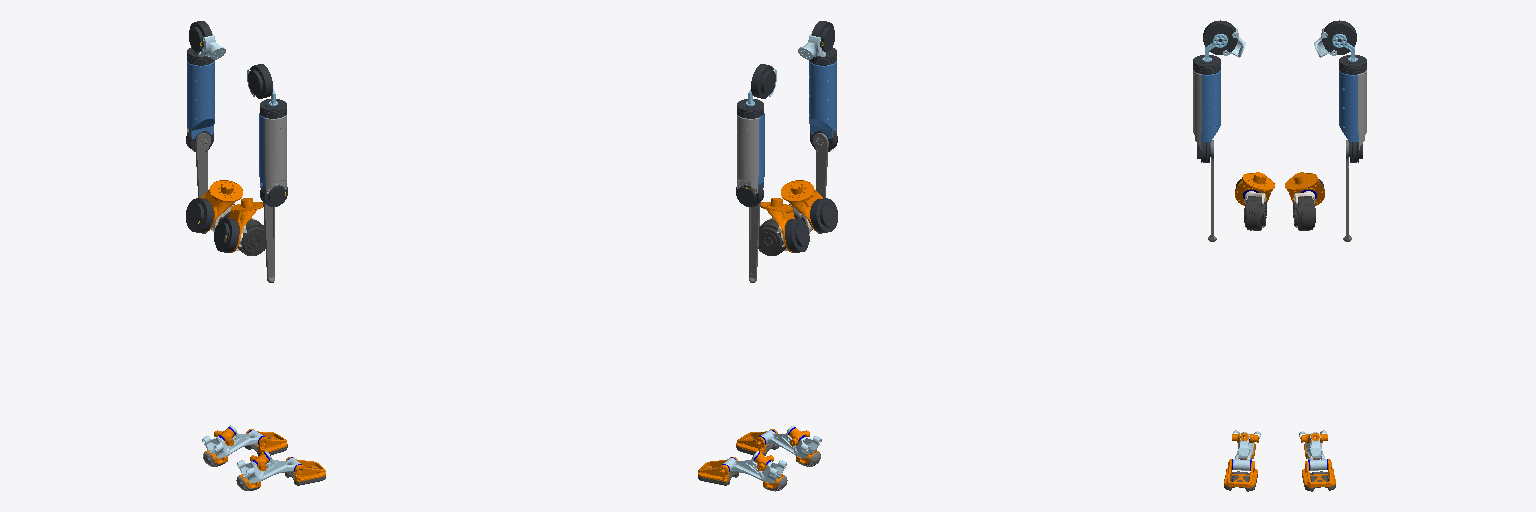
--- What the picture shows (computed from the rendered views, not written in the file) ---
Views: 3 orthographic renders of the robot side by side, from view 1: azimuth 30°, elevation 25°; view 2: azimuth 150°, elevation 25°; view 3: azimuth 270°, elevation 25°.
Robot: prestoe — 24 links, 23 joints (23 revolute); root link torso_link; default pose: all joints at 0.
Links seen in each view (by area): view 1: R_shoulderyaw_link, L_shoulderyaw_link, L_hipyaw_link, R_hipyaw_link, R_foot_link, L_foot_link, L_shoulderpitch_link, R_hiproll_link, R_elbowpitch_link, L_elbowpitch_link, R_shoulderpitch_link, R_toe_link (+1 smaller); view 2: L_shoulderyaw_link, R_shoulderyaw_link, R_hipyaw_link, L_hipyaw_link, L_foot_link, R_foot_link, R_shoulderpitch_link, L_hiproll_link, L_elbowpitch_link, R_elbowpitch_link, L_shoulderpitch_link, L_toe_link (+1 smaller); view 3: R_shoulderyaw_link, L_shoulderyaw_link, R_shoulderpitch_link, L_shoulderpitch_link, L_hiproll_link, R_hiproll_link, R_hipyaw_link, L_hipyaw_link, R_toe_link, L_toe_link, L_foot_link, R_foot_link.
Link boxes in pixels (x1,y1,x2,y2): R_shoulderyaw_link: [259, 99, 287, 206]; L_shoulderyaw_link: [186, 47, 214, 151]; L_hipyaw_link: [186, 180, 242, 232]; R_hipyaw_link: [214, 198, 262, 252]; R_foot_link: [236, 451, 301, 490]; L_foot_link: [202, 425, 264, 466]; L_shoulderpitch_link: [189, 21, 225, 59]; R_hiproll_link: [236, 218, 265, 255]; R_elbowpitch_link: [263, 202, 274, 282]; L_elbowpitch_link: [195, 133, 210, 233]; R_shoulderpitch_link: [247, 64, 272, 98]; R_toe_link: [285, 457, 325, 485]; L_shoulderyaw_link: [736, 99, 764, 206]; R_shoulderyaw_link: [809, 47, 837, 151]; R_hipyaw_link: [781, 180, 837, 232]; L_hipyaw_link: [761, 198, 809, 252]; L_foot_link: [722, 451, 787, 491]; R_foot_link: [759, 425, 821, 466]; R_shoulderpitch_link: [798, 21, 834, 59]; L_hiproll_link: [758, 218, 787, 255]; L_elbowpitch_link: [749, 202, 760, 282]; R_elbowpitch_link: [813, 133, 828, 233]; L_shoulderpitch_link: [751, 64, 776, 98]; L_toe_link: [698, 457, 738, 485]; R_shoulderyaw_link: [1193, 55, 1220, 162]; L_shoulderyaw_link: [1339, 55, 1366, 162]; R_shoulderpitch_link: [1203, 20, 1245, 57]; L_shoulderpitch_link: [1314, 20, 1356, 57]; L_hiproll_link: [1293, 191, 1315, 230]; R_hiproll_link: [1244, 191, 1266, 230]; R_hipyaw_link: [1235, 172, 1274, 205]; L_hipyaw_link: [1285, 172, 1324, 205]; R_toe_link: [1224, 459, 1257, 491]; L_toe_link: [1302, 459, 1335, 491]; L_foot_link: [1299, 430, 1327, 470]; R_foot_link: [1232, 430, 1260, 470].
Bounding box of the posed robot: 0.3278 × 0.4948 × 1.37 m (x, y, z).
Meshes: 19 distinct files referenced, 18 mesh visuals loaded (14 Collada DAE); not drawn: 6 (reference not matched to a file when rendering).

The robot description file, URDF, robot "prestoe":
<?xml version="1.0" ?>
<robot name="prestoe">

    <!-- <link name="world"/>
    <joint name="fixed" type="fixed">
        <parent link="world"/>
        <child link="torso_link"/>
    </joint>
 -->

<!--!!!!!!!!!!!! Torso !!!!!!!!!!!!!!!!!!!!!!!!!!!!!!!!!!!!-->
   
    <link name="torso_link">
        <inertial>
            <mass value="7.3955327"/>
            <inertia ixx="314898.04974e-6" ixy="-23.52183e-6" ixz="-983.13041e-6" iyy="292494.07567e-6" iyz="824.26242e-6" izz="47419.11099e-6"/>
            <origin rpy="0 0 0" xyz="0.02827e-3 -0.53546e-3 170.93286e-3"/>
        </inertial>
        <visual>
            <origin rpy="0 0 0" xyz="0.0 0.0 0.0"/>
            <geometry>
                <mesh filename="meshes/torso_link.dae"/>
            </geometry>
        </visual>
        <collision>
            <origin rpy="0 0 0" xyz="0.0 0.0 0.0"/>
            <geometry>
                <mesh filename="meshes/torso_link.dae"/>
            </geometry>
        </collision>
    </link>

 <joint name="torsoyaw" type="revolute">
        <parent link="torso_link"/>
        <child link="pelvis"/>
        <axis xyz="0 0 1"/>
        <origin rpy="0 0 0" xyz="0.0 0.0 -44.5e-3"/>
        <limit effort="1000" lower="-1.57079632679" upper="1.57079632679" velocity="20"/>
    </joint>

    <link name="pelvis">
        <inertial>
            <mass value="4.05352722"/>
            <inertia ixx="16129.06382e-6" ixy="0.02459e-6" ixz="-11.24282e-6" iyy="8349.24216e-6" iyz="0.16863e-6" izz="13083.52644e-6"/>
            <origin xyz="0.1893e-3 -0.00259e-3 -24.14927e-3"/>
        </inertial>
        <visual>
            <origin rpy="0 0 0" xyz="0.0 0.0 0.0"/>
            <geometry>
                <mesh filename="meshes/pelvis_link.dae"/>
            </geometry>
        </visual>
        <collision>
            <origin rpy="0 0 0" xyz="0.0 0.0 0.0"/>
            <geometry>
                <mesh filename="meshes/pelvis_link.dae"/>
            </geometry>
        </collision>
    </link>

    <!--!!!!!!!!!!!! Right Leg !!!!!!!!!!!!!!!!!!!!!!!!!!!!!!!!!!!!-->
    <joint name="R_hipyaw" type="revolute">
        <parent link="pelvis"/>
        <child link="R_hipyaw_link"/>
        <axis xyz="0 0 1"/>
        <origin rpy="-0.2618  0  0" xyz="0 -54.71371e-3 -48.37244e-3"/>
        <!--includes -15 degree tilt, and convert mm to m-->
        <limit lower="-1.57" upper="1.57" effort="0.0" velocity="20.0"/>
    </joint>
    <link name="R_hipyaw_link">
        <inertial>
            <mass value="0.81333271"/>
            <inertia ixx="1468.70277e-6" ixy="2.09444e-6" ixz="-808.6506e-6" iyy="1952.95398e-6" iyz="0.83174e-6" izz="1403.2719e-6"/>
            <origin rpy="0 0 0" xyz="-60.23929e-3 0.06825e-3 -73.37881e-3"/>
        </inertial>
        <visual>
            <origin rpy="0 0 0" xyz="0.0 0.0 0.0"/>
            <geometry>
                <mesh filename="meshes/hip_yaw_link.dae"/>
            </geometry>
        </visual>
        <collision>
            <origin rpy="0 0 0" xyz="0.0 0.0 0.0"/>
            <geometry>
                <mesh filename="meshes/hip_yaw_link.dae"/>
            </geometry>
        </collision>
    </link>

    <joint name="R_hiproll" type="revolute">
        <parent link="R_hipyaw_link"/>
        <child link="R_hiproll_link"/>
        <axis xyz="1 0 0"/>
        <origin rpy="0.2618 0.3491 0" xyz="-63.99211e-3 0 -95.68919e-3"/>
        <!--another 15 degree tilt to undo the first one and 20 degree tilt-->
        <limit lower="-1.57" upper="1.57" effort="0.0" velocity="20.0"/>
    </joint>
    <link name="R_hiproll_link">
        <inertial>
            <mass value="1.14932568"/>
            <inertia ixx="920.07414e-6" ixy="-23.66697e-6" ixz="15.05929e-6" iyy="1586.13101e-6" iyz="2.15892e-6" izz="1226.34131e-6"/>
            <origin rpy="0 0 0" xyz="66.03824e-3 15.28026e-3 0.35756e-3"/>
        </inertial>
        <visual>
            <origin rpy="0 0 0" xyz="0.0 0.0 0.0"/>
            <geometry>
                <mesh filename="meshes/r_hip_roll_link.dae"/>
            </geometry>
        </visual>
        <collision>
            <origin rpy="0 0 0" xyz="0.0 0.0 0.0"/>
            <geometry>
                <mesh filename="meshes/r_hip_roll_link.dae"/>
            </geometry>
        </collision>
    </link>

    <joint name="R_hippitch" type="revolute">
        <parent link="R_hiproll_link"/>
        <child link="R_hippitch_link"/>
        <axis xyz="0 1 0"/>
        <origin rpy="0 -0.3491 0" xyz="74e-3 -15.7e-3 0"/>
        <!--another -20 degree tilt to undo the previous one-->
        <limit lower="-1.57" upper="1.57" effort="100.0" velocity="20.0"/>
    </joint>
    <link name="R_hippitch_link">
        <inertial>
            <mass value="4.3699915"/>
            <inertia ixx="298924.68663e-6" ixy="-352.44425e-6" ixz="7197.82909e-6" iyy="300685.59195e-6" iyz="13956.63711e-6" izz="10177.56262e-6"/>
            <origin rpy="0 0 0" xyz="8.85609e-3 12.34699e-3 -236.4855e-3"/>
        </inertial>

        <visual>
            <origin rpy="0 0 0" xyz="0.0 0.0 0.0"/>
            <geometry>
                <mesh filename="meshes/r_thigh_link.dae"/>
            </geometry>
        </visual>
        <collision>
            <origin rpy="0 0 0" xyz="0.0 0.0 0.0"/>
            <geometry>
                <mesh filename="meshes/r_thigh_link.dae"/>
            </geometry>
        </collision>
    </link>


    <joint name="R_knee" type="revolute">
        <parent link="R_hippitch_link"/>
        <child link="R_shank_link"/>
        <axis xyz="0 1 0"/>
        <origin rpy="0 0 0" xyz="0.0 15.2e-3 -348e-3"/>
        <limit upper="2.61799" lower="0.0" effort="0.0" velocity="20.0"/>
    </joint>
    <link name="R_shank_link">
        <inertial>
            <mass value="1.53872774"/>
            <inertia ixx="94818.95217e-6" ixy="0.73746e-6" ixz="-1571.54542e-6" iyy="94726.4192e-6" iyz="40.20347e-6" izz="2088.92694e-6"/>
            <origin rpy="0 0 0" xyz="-0.32914e-3 0.04704e-3 -219.68202e-3"/>
        </inertial>

        <visual>
            <origin rpy="0 0 0" xyz="0.0 0.0 0.0"/>
            <geometry>
                <mesh filename="meshes/shank_link.dae"/>
            </geometry>
        </visual>
        <collision>
            <origin rpy="0 0 0" xyz="0.0 0.0 0.0"/>
            <geometry>
                <mesh filename="meshes/shank_link.dae"/>
            </geometry>
        </collision>
    </link>


    <joint name="R_anklepitch" type="revolute">
        <parent link="R_shank_link"/>
        <child link="R_ankle_link"/>
        <axis xyz="0 1 0"/>
        <origin rpy="0 -0.523599 0" xyz="0.0 0.0 -0.355"/>
        <!--shift downwards, rotate by -30 deg-->
        <limit lower="-1.57" upper="1.57" effort="0.0" velocity="20.0"/>
    </joint>
    <link name="R_ankle_link">
        <inertial>
            <mass value="0.20111053"/>
            <inertia ixx="48.83414e-6" ixy="0.00143e-6" ixz="-0.0021e-6" iyy="45.95624e-6" iyz="0.00153e-6" izz="74.52458e-6"/>
            <origin rpy="0 0 0" xyz="11.07071e-3 0.00053e-3 -0.00076e-3"/>
        </inertial>

        <visual>
            <origin rpy="0 0 0" xyz="0.0 0.0 0.0"/>
            <geometry>
                <mesh filename="meshes/ankle_pitch_link.dae"/>
            </geometry>
        </visual>
        <collision>
            <origin rpy="0 0 0" xyz="0.0 0.0 0.0"/>
            <geometry>
                <mesh filename="meshes/ankle_pitch_link.dae"/>
            </geometry>
        </collision>
    </link>


    <joint name="R_ankleroll" type="revolute">
        <parent link="R_ankle_link"/>
        <child link="R_foot_link"/>
        <axis xyz="1 0 0"/>
        <origin rpy="0 0 0" xyz="0.0 0.0 0.0"/>
        <limit lower="-0.785" upper="0.785" effort="0.0" velocity="20.0"/>
    </joint>
    <link name="R_foot_link">
        <inertial>
            <mass value="0.67696856"/>
            <inertia ixx="2711.33678e-6" ixy="-0.10761e-6" ixz="1805.42888e-6" iyy="4882.55547e-6" iyz="-0.08071e-6" izz="2592.25732e-6"/>
            <origin rpy="0 0 0" xyz="22.09392e-3 -0.00337e-3 -50.15365e-3"/>
        </inertial>

        <visual>
            <origin rpy="0 0 0" xyz="0.0 0.0 0.0"/>
            <geometry>
                <mesh filename="meshes/foot_link.dae"/>
            </geometry>
        </visual>
        <collision>
            <origin rpy="0 0 0" xyz="0.0 0.0 0.0"/>
            <geometry>
                <mesh filename="meshes/foot_link.dae"/>
            </geometry>
        </collision>
    </link>


    <joint name="R_toepitch" type="revolute">
        <parent link="R_foot_link"/>
        <child link="R_toe_link"/>
        <axis xyz="0 1 0"/>
        <origin rpy="0 0.523599 0" xyz="84.97837e-3 0.0 -85.43851e-3"/>
        <limit lower="-0.5236" upper="0.5236" effort="0.0" velocity="20.0"/>
    </joint>
    <link name="R_toe_link">
        <inertial>
            <mass value="0.25395867"/>
            <inertia ixx="422.66848e-6" ixy="0.30058e-6" ixz="201.67782e-6" iyy="648.32269e-6" iyz="0.69143e-6" izz="657.93967e-6"/>
            <origin rpy="0 0 0" xyz="27.48999e-3 0.10489e-3 -26.31463e-3"/>
        </inertial>

        <visual>
            <origin rpy="0 0 0" xyz="0.0 0.0 0.0"/>
            <geometry>
                <mesh filename="meshes/toe_link.dae"/>
            </geometry>
        </visual>
        <collision>
            <origin rpy="0 0 0" xyz="0.0 0.0 0.0"/>
            <geometry>
                <mesh filename="meshes/toe_link.dae"/>
            </geometry>
        </collision>
    </link>







    <!--!!!!!!!!!!!! Left Leg !!!!!!!!!!!!!!!!!!!!!!!!!!!!!!!!!!!!-->
    <joint name="L_hipyaw" type="revolute">
        <parent link="pelvis"/>
        <child link="L_hipyaw_link"/>
        <axis xyz="0 0 1"/>
         <origin rpy="0.2618  0  0" xyz="0 54.71371e-3 -48.37244e-3"/>
        <!--includes 15 degree tilt, and convert mm to m-->
        <limit effort="100" lower="-1.570796" upper="1.570796" velocity="20"/>
    </joint>
    <link name="L_hipyaw_link">
        <inertial>
            <mass value="0.81333271"/>
            <inertia ixx="1468.70277e-6" ixy="2.09444e-6" ixz="-808.6506e-6" iyy="1952.95398e-6" iyz="0.83174e-6" izz="1403.2719e-6"/>
            <origin rpy="0 0 0" xyz="-60.23929e-3 0.06825e-3 -73.37881e-3"/>
            <!-- Since this is left leg, y coordinate is positive -->
        </inertial>
        <visual>
            <origin rpy="0 0 0" xyz="0.0 0.0 0.0"/>
            <geometry>
                <mesh filename="meshes/hip_yaw_link.dae"/>
            </geometry>
        </visual>
        <collision>
            <origin rpy="0 0 0" xyz="0.0 0.0 0.0"/>
            <geometry>
                <mesh filename="meshes/hip_yaw_link.dae"/>
            </geometry>
        </collision>
    </link>

    <joint name="L_hiproll" type="revolute">
        <parent link="L_hipyaw_link"/>
        <child link="L_hiproll_link"/>
        <axis xyz="1 0 0"/>
        <origin rpy="-0.2618 0.3491 0" xyz="-63.99211e-3 0 -95.68919e-3"/>
        <!--another -15 degree tilt to undo the first one and 20 degree tilt-->
        <limit effort="100" lower="-1.570796" upper="1.570796" velocity="20"/>
    </joint>
    <link name="L_hiproll_link">
        <inertial>
            <mass value="1.14932588"/>
            <inertia ixx="920.08555e-6" ixy="23.66599e-6" ixz="13.88681e-6" iyy="1586.14307e-6" iyz="-2.43377e-6" izz="1226.34169e-6"/>
            <origin rpy="0 0 0" xyz="66.03823e-3 -15.28028e-3 0.34236e-3"/>
        </inertial>
        <visual>
            <origin rpy="0 0 0" xyz="0.0 0.0 0.0"/>
            <geometry>
                <mesh filename="meshes/l_hip_roll_link.dae"/>
            </geometry>
        </visual>
        <collision>
            <origin rpy="0 0 0" xyz="0.0 0.0 0.0"/>
            <geometry>
                <mesh filename="meshes/l_hip_roll_link.dae"/>
            </geometry>
        </collision>
    </link>

    <joint name="L_hippitch" type="revolute">
        <parent link="L_hiproll_link"/>
        <child link="L_hippitch_link"/>
        <axis xyz="0 1 0"/>
        <origin rpy="0 -0.3491 0" xyz="74e-3 15.7e-3 0"/>
        <!--another -20 degree tilt to undo the previous one-->
        <limit effort="100" lower="-1.570796" upper="1.570796" velocity="20"/>
    </joint>
    <link name="L_hippitch_link">
        <inertial>
            <mass value="4.3699915"/>
            <inertia ixx="298924.68663e-6" ixy="352.44425e-6" ixz="7197.82909e-6" iyy="300685.59195e-6" iyz="-13956.63711e-6" izz="10177.56262e-6"/>
            <origin rpy="0 0 0" xyz="8.85609e-3 -12.34699e-3 -236.4855e-3"/>
            <!-- Since this is left leg, y coordinate is negative -->
        </inertial>

        <visual>
            <origin rpy="0 0 0" xyz="0.0 0.0 0.0"/>
            <geometry>
                <mesh filename="meshes/l_thigh_link.dae"/>
            </geometry>
        </visual>
        <collision>
            <origin rpy="0 0 0" xyz="0.0 0.0 0.0"/>
            <geometry>
                <mesh filename="meshes/l_thigh_link.dae"/>
            </geometry>
        </collision>
    </link>


    <joint name="L_knee" type="revolute">
        <parent link="L_hippitch_link"/>
        <child link="L_shank_link"/>
        <axis xyz="0 1 0"/>
        <origin rpy="0 0 0" xyz="0.0 -15.2e-3 -348e-3"/>
        <limit effort="100" upper="2.61799" lower="0.0" velocity="20"/>
    </joint>
    <link name="L_shank_link">
        <inertial>
            <mass value="1.53872774"/>
            <inertia ixx="94818.95217e-6" ixy="0.73746e-6" ixz="-1571.54542e-6" iyy="94726.4192e-6" iyz="40.20347e-6" izz="2088.92694e-6"/>
            <origin rpy="0 0 0" xyz="-0.32914e-3 0.04704e-3 -219.68202e-3"/>
        </inertial>

        <visual>
            <origin rpy="0 0 0" xyz="0.0 0.0 0.0"/>
            <geometry>
                <mesh filename="meshes/shank_link.dae"/>
            </geometry>
        </visual>
        <collision>
            <origin rpy="0 0 0" xyz="0.0 0.0 0.0"/>
            <geometry>
                <mesh filename="meshes/shank_link.dae"/>
            </geometry>
        </collision>
    </link>


    <joint name="L_anklepitch" type="revolute">
        <parent link="L_shank_link"/>
        <child link="L_ankle_link"/>
        <axis xyz="0 1 0"/>
        <origin rpy="0 -0.523599 0" xyz="0.0 0.0 -0.355"/>
        <!--shift downwards, rotate by -30 deg-->
        <limit effort="100" lower="-1.570796" upper="1.570796" velocity="20"/>
    </joint>
    <link name="L_ankle_link">
        <inertial>
            <mass value="0.20111053"/>
            <inertia ixx="48.83414e-6" ixy="0.00143e-6" ixz="-0.0021e-6" iyy="45.95624e-6" iyz="0.00153e-6" izz="74.52458e-6"/>
            <origin rpy="0 0 0" xyz="11.07071e-3 0.00053e-3 -0.00076e-3"/>
        </inertial>

        <visual>
            <origin rpy="0 0 0" xyz="0.0 0.0 0.0"/>
            <geometry>
                <mesh filename="meshes/ankle_pitch_link.dae"/>
            </geometry>
        </visual>
        <collision>
            <origin rpy="0 0 0" xyz="0.0 0.0 0.0"/>
            <geometry>
                <mesh filename="meshes/ankle_pitch_link.dae"/>
            </geometry>
        </collision>


    </link>


    <joint name="L_ankleroll" type="revolute">
        <parent link="L_ankle_link"/>
        <child link="L_foot_link"/>
        <axis xyz="1 0 0"/>
        <origin rpy="0 0 0" xyz="0.0 0.0 0.0"/>
        <limit effort="100" lower="-0.523599" upper="0.523599" velocity="20"/>
    </joint>
    <link name="L_foot_link">
        <inertial>
            <mass value="0.67696856"/>
            <inertia ixx="2711.33678e-6" ixy="-0.10761e-6" ixz="1805.42888e-6" iyy="4882.55547e-6" iyz="-0.08071e-6" izz="2592.25732e-6"/>
            <origin rpy="0 0 0" xyz="22.09392e-3 -0.00337e-3 -50.15365e-3"/>
        </inertial>

        <visual>
            <origin rpy="0 0 0" xyz="0.0 0.0 0.0"/>
            <geometry>
                <mesh filename="meshes/foot_link.dae"/>
            </geometry>
        </visual>
        <collision>
            <origin rpy="0 0 0" xyz="0.0 0.0 0.0"/>
            <geometry>
                <mesh filename="meshes/foot_link.dae"/>
            </geometry>
        </collision>
    </link>

    <joint name="L_toepitch" type="revolute">
        <parent link="L_foot_link"/>
        <child link="L_toe_link"/>
        <axis xyz="0 1 0"/>
        <origin rpy="0 0.523599 0" xyz="84.97837e-3 0.0 -85.43851e-3"/>
        <limit effort="100" lower="-0.523599" upper="0.523599" velocity="20"/>
    </joint>
    <link name="L_toe_link">
        <inertial>
            <mass value="0.25395867"/>
            <inertia ixx="422.66848e-6" ixy="0.30058e-6" ixz="201.67782e-6" iyy="648.32269e-6" iyz="0.69143e-6" izz="657.93967e-6"/>
            <origin rpy="0 0 0" xyz="27.48999e-3 0.10489e-3 -26.31463e-3"/>
        </inertial>

        <visual>
            <origin rpy="0 0 0" xyz="0.0 0.0 0.0"/>
            <geometry>
                <mesh filename="meshes/toe_link.dae"/>
            </geometry>
        </visual>
        <collision>
            <origin rpy="0 0 0" xyz="0.0 0.0 0.0"/>
            <geometry>
                <mesh filename="meshes/toe_link.dae"/>
            </geometry>
        </collision>
    </link>


    



    <!--!!!!!!!!!!!! Right Arm !!!!!!!!!!!!!!!!!!!!!!!!!!!!!!!!!!!!-->

    <joint name="R_shoulderpitch" type="revolute">
        <parent link="torso_link"/>
        <child link="R_shoulderpitch_link"/>
        <axis xyz="0 0 1"/>
        <origin rpy="1.1345 0 0" xyz="0 -106.840e-3 300.24519e-3"/>
        <!-- 65 degree tilt for first shoulder joint-->
        <limit effort="100" lower="-2.61799387799" upper="0.9" velocity="20"/>
    </joint>
    <link name="R_shoulderpitch_link">
        <inertial>
            <mass value="0.55244303"/>
            <inertia ixx="718.34875e-6" ixy="-0.36731e-6" ixz="32.12403e-6" iyy="489.44684e-6" iyz="-0.48227e-6" izz="355.10779e-6"/>
            <origin rpy="0 0 0" xyz="-21.30946e-3 -0.03881e-3 62.86176e-3"/>
        </inertial>
        <visual>
            <origin rpy="0 0 0" xyz="0.0 0.0 0.0"/>
            <geometry>
                <mesh filename="meshes/r_shoulder_pitch_link.dae"/>
            </geometry>
        </visual>
        <collision>
            <origin rpy="0 0 0" xyz="0.0 0.0 0.0"/>
            <geometry>
                <mesh filename="meshes/r_shoulder_pitch_link.dae"/>
            </geometry>
        </collision>
    </link>

    <joint name="R_shoulderroll" type="revolute">
        <parent link="R_shoulderpitch_link"/>
        <child link="R_shoulderroll_link"/>
        <axis xyz="1 0 0"/>
        <origin rpy="-1.1345 0 0" xyz="-4e-3 0 69e-3"/>
        <!-- undo 65 degree tilt-->
        <limit effort="100" lower="-2.61799387799" upper="0" velocity="20"/>
    </joint>
    <link name="R_shoulderroll_link">
        <inertial>
            <mass value="0.04011818"/>
            <inertia ixx="37.46692e-6" ixy="0e-6" ixz="0e-6" iyy="22.34269e-6" iyz="-14.24766e-6" izz="15.8147e-6"/>
            <origin rpy="0 0 0" xyz="4e-3 -14.35868e-3 -16.08963e-3"/>
        </inertial>
        <visual>
            <origin rpy="0 0 0" xyz="0.0 0.0 0.0"/>
            <geometry>
                <mesh filename="meshes/r_shoulder_roll_link.dae"/>
            </geometry>
        </visual>
        <collision>
            <origin rpy="0 0 0" xyz="0.0 0.0 0.0"/>
            <geometry>
                <mesh filename="meshes/r_shoulder_roll_link.dae"/>
            </geometry>
        </collision>
    </link>

    <joint name="R_shoulderyaw" type="revolute">
        <parent link="R_shoulderroll_link"/>
        <child link="R_shoulderyaw_link"/>
        <axis xyz="0 0 1"/>
        <origin rpy="0 0 0" xyz="4e-3 -38e-3 -60e-3"/>
        <limit effort="100" lower="0" upper="0" velocity="20"/>
    </joint>
    <link name="R_shoulderyaw_link">
        <inertial>
            <mass value="1.02342393"/>
            <inertia ixx="14353.24969e-6" ixy="-1.29191e-6" ixz="-9.64646e-6" iyy="14449.75915e-6" iyz="-343.48627e-6" izz="820.44439e-6"/>
            <origin rpy="0 0 0" xyz="-0.07068e-3 -5.45858e-3 -145.06542e-3"/>
        </inertial>
        <visual>
            <origin rpy="0 0 0" xyz="0.0 0.0 0.0"/>
            <geometry>
                <mesh filename="meshes/r_upper_arm_link.dae"/>
            </geometry>
        </visual>
        <collision>
            <origin rpy="0 0 0" xyz="0.0 0.0 0.0"/>
            <geometry>
                <mesh filename="meshes/r_upper_arm_link.dae"/>
            </geometry>
        </collision>
    </link>

    <joint name="R_elbowpitch" type="revolute">
        <parent link="R_shoulderyaw_link"/>
        <child link="R_elbowpitch_link"/>
        <axis xyz="0 1 0"/>
        <origin rpy="0 0 0" xyz="0 11e-3 -279e-3"/>
        <limit effort="100" lower="-2.61799387799" upper="0" velocity="20"/>
    </joint>
    <link name="R_elbowpitch_link">
        <inertial>
            <mass value="0.07122405"/>
            <inertia ixx="732.24798e-6" ixy="-0.01868e-6" ixz="3.67205e-6" iyy="739.71266e-6" iyz="-0.17233e-6" izz="8.42502e-6"/>
            <origin rpy="0 0 0" xyz="-1.97348e-3 3.52668e-3 -118.30683e-3"/>
        </inertial>
        <visual>
            <origin rpy="0 0 0" xyz="0.0 0.0 0.0"/>
            <geometry>
                <mesh filename="meshes/r_forearm_link.dae"/>
            </geometry>
        </visual>
        <collision>
            <origin rpy="0 0 0" xyz="0.0 0.0 0.0"/>
            <geometry>
                <mesh filename="meshes/r_forearm_link.dae"/>
            </geometry>
        </collision>
    </link>

   



    <!--!!!!!!!!!!!! Left Arm !!!!!!!!!!!!!!!!!!!!!!!!!!!!!!!!!!!!-->

    <joint name="L_shoulderpitch" type="revolute">
        <parent link="torso_link"/>
        <child link="L_shoulderpitch_link"/>
        <axis xyz="0 1 0"/>
        <origin rpy="-1.1345 0 0" xyz="0 106.840e-3 300.24519e-3"/>
        <!-- -65 degree tilt for first shoulder joint-->
        <limit effort="100" lower="-2.61799387799" upper="0.9" velocity="20"/>
    </joint>
    <link name="L_shoulderpitch_link">
        <inertial>
            <mass value="0.55244254"/>
            <inertia ixx="718.34741e-6" ixy="0.36787e-6" ixz="32.12389e-6" iyy="489.43705e-6" iyz="0.47289e-6" izz="355.11643e-6"/>
            <origin rpy="0 0 0" xyz="-21.30946e-3 0.03878e-3 62.86181e-3"/>
        </inertial>
        <visual>
            <origin rpy="0 0 0" xyz="0.0 0.0 0.0"/>
            <geometry>
                <mesh filename="meshes/l_shoulder_pitch_link.dae"/>
            </geometry>
        </visual>
        <collision>
            <origin rpy="0 0 0" xyz="0.0 0.0 0.0"/>
            <geometry>
                <mesh filename="meshes/l_shoulder_pitch_link.dae"/>
            </geometry>
        </collision>
    </link>

    <joint name="L_shoulderroll" type="revolute">
        <parent link="L_shoulderpitch_link"/>
        <child link="L_shoulderroll_link"/>
        <axis xyz="1 0 0"/>
        <origin rpy="1.1345 0 0" xyz="-4e-3 0 69e-3"/>
        <!-- undo -65 degree tilt-->
        <limit effort="100" lower="0" upper="2.61799387799" velocity="20"/>
    </joint>
    <link name="L_shoulderroll_link">
        <inertial>
            <mass value="0.04011818"/>
            <inertia ixx="37.46692e-6" ixy="0e-6" ixz="0e-6" iyy="22.34269e-6" iyz="14.24766e-6" izz="15.8147e-6"/>
            <origin rpy="0 0 0" xyz="4e-3 14.35868e-3 -16.08963e-3"/>
        </inertial>
        <visual>
            <origin rpy="0 0 0" xyz="0.0 0.0 0.0"/>
            <geometry>
                <mesh filename="meshes/l_shoulder_roll_link.dae"/>
            </geometry>
        </visual>
        <collision>
            <origin rpy="0 0 0" xyz="0.0 0.0 0.0"/>
            <geometry>
                <mesh filename="meshes/l_shoulder_roll_link.dae"/>
            </geometry>
        </collision>
    </link>

    <joint name="L_shoulderyaw" type="revolute">
        <parent link="L_shoulderroll_link"/>
        <child link="L_shoulderyaw_link"/>
        <axis xyz="0 0 1"/>
        <origin rpy="0 0 0" xyz="4e-3 38e-3 -60e-3"/>
        <limit effort="100" lower="0" upper="0" velocity="20"/>
    </joint>
    <link name="L_shoulderyaw_link">
        <inertial>
            <mass value="1.02342419"/>
            <inertia ixx="14372.4367e-6" ixy="0.03396e-6" ixz="0.00737e-6" iyy="14469.04602e-6" iyz="360.74341e-6" izz="823.64928e-6"/>
            <origin rpy="0 0 0" xyz="-0.00007e-3 5.31782e-3 -145.13576e-3"/>
        </inertial>
        <visual>
            <origin rpy="0 0 0" xyz="0.0 0.0 0.0"/>
            <geometry>
                <mesh filename="meshes/l_upper_arm_link.dae"/>
            </geometry>
        </visual>
        <collision>
            <origin rpy="0 0 0" xyz="0.0 0.0 0.0"/>
            <geometry>
                <mesh filename="meshes/l_upper_arm_link.dae"/>
            </geometry>
        </collision>
    </link>

    <joint name="L_elbowpitch" type="revolute">
        <parent link="L_shoulderyaw_link"/>
        <child link="L_elbowpitch_link"/>
        <axis xyz="0 1 0"/>
        <origin rpy="0 0 0" xyz="0 -11e-3 -279e-3"/>
        <limit effort="100" lower="-2.61799387799" upper="0" velocity="20"/>
    </joint>
    <link name="L_elbowpitch_link">
        <inertial>
            <mass value="0.07122325"/>
            <inertia ixx="732.23549e-6" ixy="0.01865e-6" ixz="3.67183e-6" iyy="739.70014e-6" iyz="0.1729e-6" izz="8.42499e-6"/>
            <origin rpy="0 0 0" xyz="-1.97348e-3 -3.52661e-3 -118.30533e-3"/>
        </inertial>
        <visual>
            <origin rpy="0 0 0" xyz="0.0 0.0 0.0"/>
            <geometry>
                <mesh filename="meshes/l_forearm_link.dae"/>
            </geometry>
        </visual>
        <collision>
            <origin rpy="0 0 0" xyz="0.0 0.0 0.0"/>
            <geometry>
                <mesh filename="meshes/l_forearm_link.dae"/>
            </geometry>
        </collision>
    </link>

</robot>
